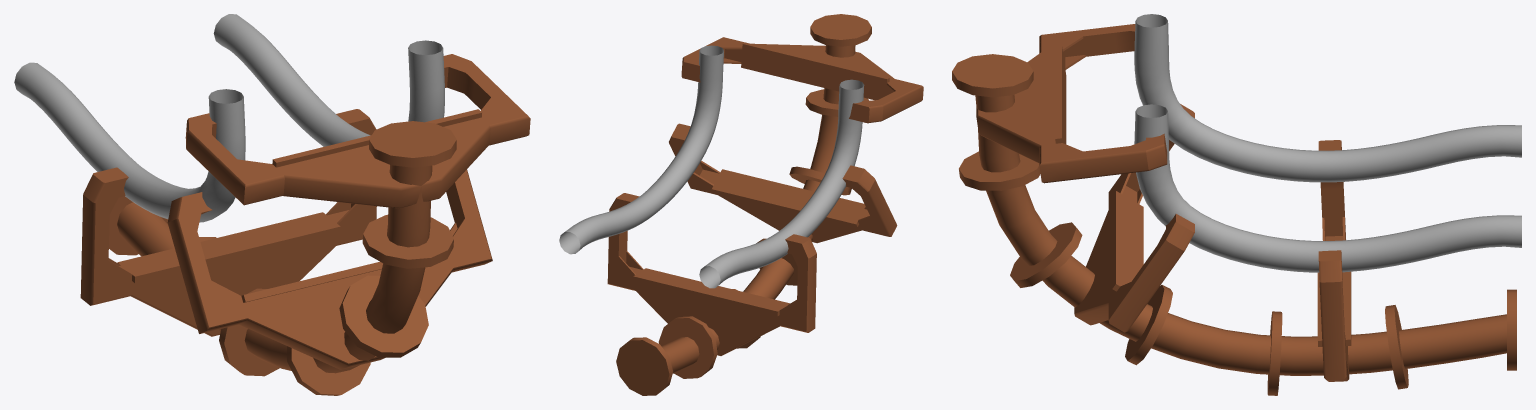
File: 90 mais dans l_autre sens.fbx
3 views of the same model, side by side, from view 1: azimuth 30°, elevation 25°; view 2: azimuth 150°, elevation 25°; view 3: azimuth 270°, elevation 25° (orthographic). The views are drawn at different scales.
Visible parts, largest first — view 1: polySurface103; view 2: polySurface103; view 3: polySurface103.
Part boxes in pixels (x1,y1,x2,y2): polySurface103: (14,14,530,395); polySurface103: (559,14,923,395); polySurface103: (952,14,1521,395).
Bounding box in the file's own units: 7.24 × 8.5 × 13.48.
